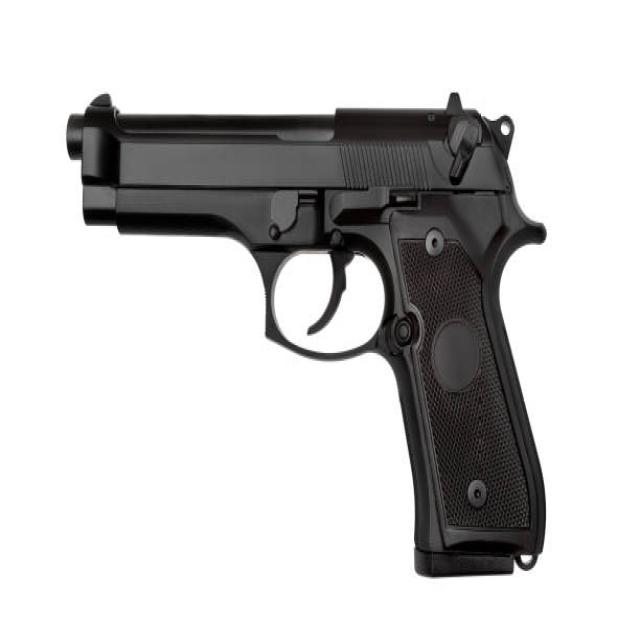pistol: (63, 83, 554, 591)
